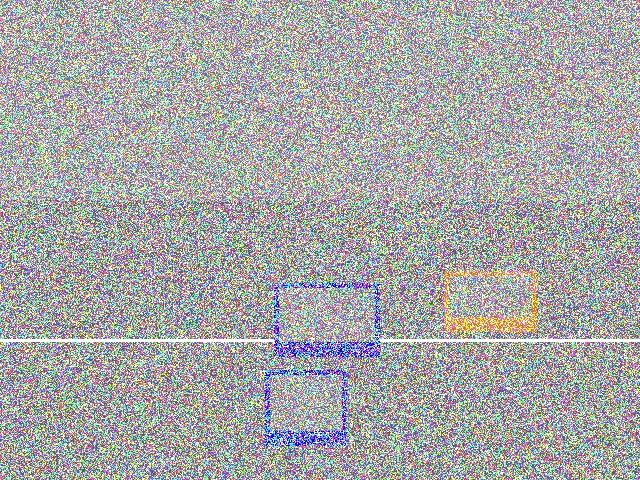bus: (212, 198, 364, 329), (72, 338, 213, 401)
truck: (342, 182, 475, 284)
